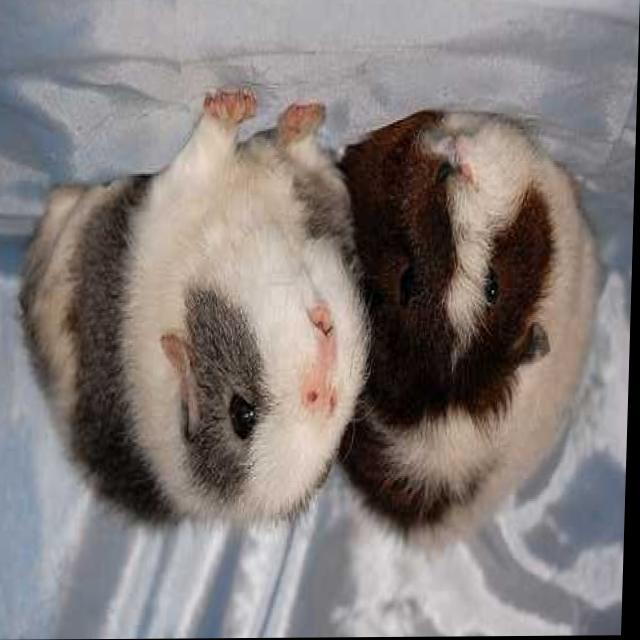guinea pig: (21, 103, 372, 523), (352, 109, 600, 551)
